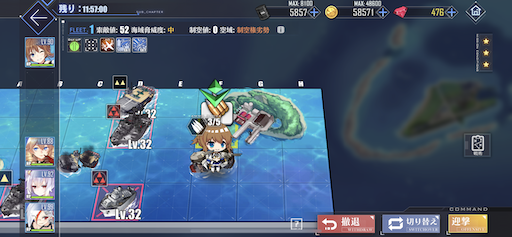lv3: (92, 171, 141, 220), (106, 106, 152, 149)
